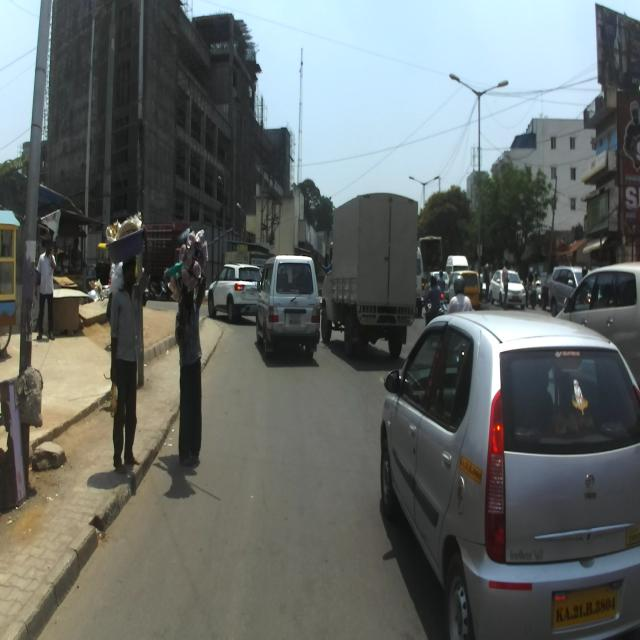car ahead at: (375, 308, 640, 640), (262, 245, 322, 358)
electric pole ahead at: (10, 0, 60, 498)
person ahead at: (96, 208, 155, 473), (173, 218, 216, 485)
truck ahead at: (331, 196, 412, 352)
